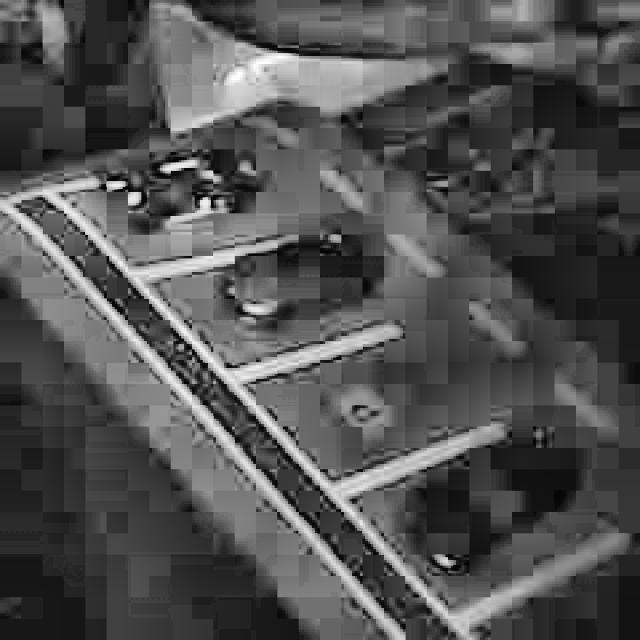car: (397, 416, 566, 574), (212, 218, 390, 335), (92, 147, 269, 240)
